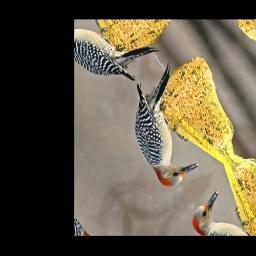Woodpecker: (100, 57, 231, 205)
